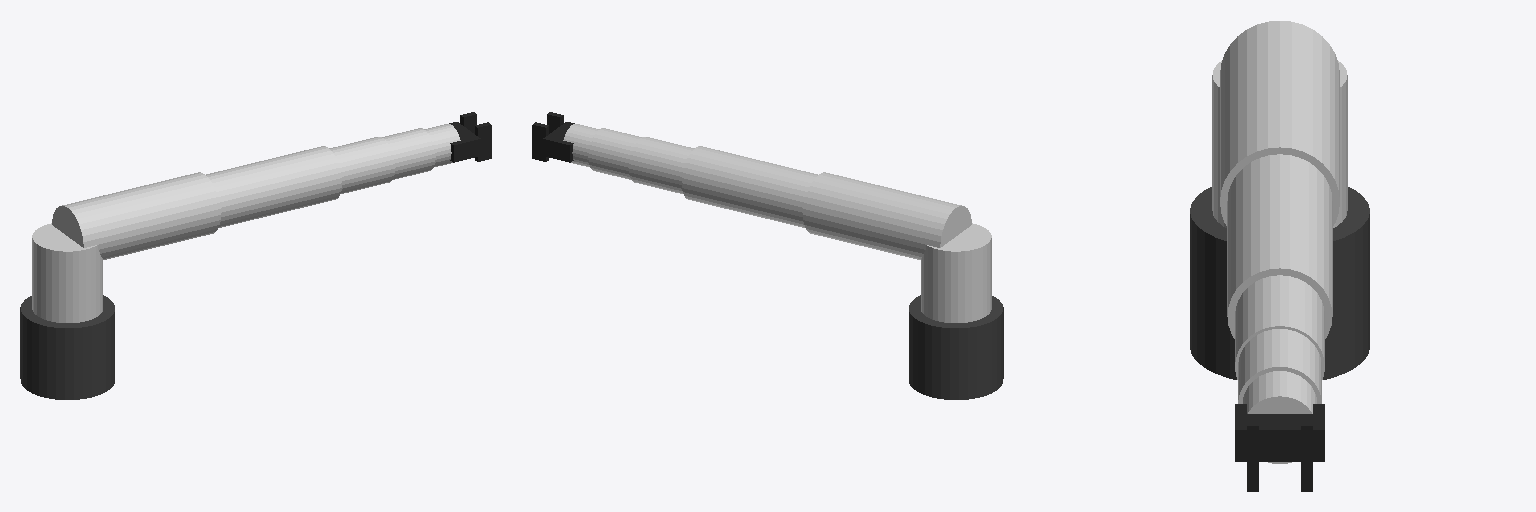
URDF robot description (tutorial_arm):
<?xml version="1.0"?>
<!--
  EasyTrainer Tutorial Arm — URDF
  ================================
  Kinematic counterpart of assets/scene.xml. Used by the Pinocchio IK solver
  so the tutorial robot can be driven in task space (move_ee_step) just like
  any real robot. Joint names / origins / axes match the MJCF exactly.

  Chain:  base_link → joint1 (yaw) → link1 → joint2 (shoulder pitch) → link2
        → joint3 (elbow pitch) → link3 → joint4 (forearm roll) → link4
        → joint5 (wrist pitch) → link5 → joint6 (tool roll) → link6
        → fixed → gripper_base → {finger_left | finger_right} (prismatic)

  EE site: gripper_base + (0.05, 0, 0)
           Equivalently in link6 frame: (0.045 + 0.05, 0, 0) = (0.095, 0, 0).
           IK config uses parent="joint6", offset=[0.095, 0, 0].
-->
<robot name="tutorial_arm">

  <!-- Base / pedestal: cylinder (r=0.06, h=0.10) sitting on the floor -->
  <link name="base_link">
    <visual>
      <origin xyz="0 0 0.05" rpy="0 0 0"/>
      <geometry><cylinder radius="0.06" length="0.10"/></geometry>
      <material name="dark_grey"><color rgba="0.3 0.3 0.3 1"/></material>
    </visual>
    <collision>
      <origin xyz="0 0 0.05" rpy="0 0 0"/>
      <geometry><cylinder radius="0.06" length="0.10"/></geometry>
    </collision>
    <inertial>
      <mass value="2.0"/>
      <origin xyz="0 0 0.05" rpy="0 0 0"/>
      <inertia ixx="0.005" iyy="0.005" izz="0.004" ixy="0" ixz="0" iyz="0"/>
    </inertial>
  </link>

  <!-- link1: yaw shaft, capsule from (0,0,0)→(0,0,0.10) along z -->
  <link name="link1">
    <visual>
      <origin xyz="0 0 0.05" rpy="0 0 0"/>
      <geometry><cylinder radius="0.045" length="0.10"/></geometry>
      <material name="arm_grey"><color rgba="0.85 0.85 0.85 1"/></material>
    </visual>
    <collision>
      <origin xyz="0 0 0.05" rpy="0 0 0"/>
      <geometry><cylinder radius="0.045" length="0.10"/></geometry>
    </collision>
    <inertial>
      <mass value="0.5"/>
      <origin xyz="0 0 0.05" rpy="0 0 0"/>
      <inertia ixx="0.002" iyy="0.002" izz="0.0005" ixy="0" ixz="0" iyz="0"/>
    </inertial>
  </link>
  <joint name="joint1" type="revolute">
    <origin xyz="0 0 0.10" rpy="0 0 0"/>
    <parent link="base_link"/>
    <child link="link1"/>
    <axis xyz="0 0 1"/>
    <limit lower="-3.14" upper="3.14" effort="100" velocity="5"/>
  </joint>

  <!-- link2: upper arm, capsule from (0,0,0)→(0.20,0,0) along x -->
  <link name="link2">
    <visual>
      <origin xyz="0.10 0 0" rpy="0 1.5708 0"/>
      <geometry><cylinder radius="0.04" length="0.20"/></geometry>
      <material name="arm_grey"/>
    </visual>
    <collision>
      <origin xyz="0.10 0 0" rpy="0 1.5708 0"/>
      <geometry><cylinder radius="0.04" length="0.20"/></geometry>
    </collision>
    <inertial>
      <mass value="0.5"/>
      <origin xyz="0.10 0 0" rpy="0 0 0"/>
      <inertia ixx="0.0005" iyy="0.005" izz="0.005" ixy="0" ixz="0" iyz="0"/>
    </inertial>
  </link>
  <joint name="joint2" type="revolute">
    <origin xyz="0 0 0.10" rpy="0 0 0"/>
    <parent link="link1"/>
    <child link="link2"/>
    <axis xyz="0 -1 0"/>
    <limit lower="-1.57" upper="1.57" effort="100" velocity="5"/>
  </joint>

  <!-- link3: forearm, capsule from (0,0,0)→(0.18,0,0) along x -->
  <link name="link3">
    <visual>
      <origin xyz="0.09 0 0" rpy="0 1.5708 0"/>
      <geometry><cylinder radius="0.035" length="0.18"/></geometry>
      <material name="arm_grey"/>
    </visual>
    <collision>
      <origin xyz="0.09 0 0" rpy="0 1.5708 0"/>
      <geometry><cylinder radius="0.035" length="0.18"/></geometry>
    </collision>
    <inertial>
      <mass value="0.5"/>
      <origin xyz="0.09 0 0" rpy="0 0 0"/>
      <inertia ixx="0.0004" iyy="0.004" izz="0.004" ixy="0" ixz="0" iyz="0"/>
    </inertial>
  </link>
  <joint name="joint3" type="revolute">
    <origin xyz="0.20 0 0" rpy="0 0 0"/>
    <parent link="link2"/>
    <child link="link3"/>
    <axis xyz="0 -1 0"/>
    <limit lower="-2.40" upper="0.50" effort="100" velocity="5"/>
  </joint>

  <!-- link4: forearm roll, capsule from (0,0,0)→(0.08,0,0) along x -->
  <link name="link4">
    <visual>
      <origin xyz="0.04 0 0" rpy="0 1.5708 0"/>
      <geometry><cylinder radius="0.030" length="0.08"/></geometry>
      <material name="arm_grey"/>
    </visual>
    <collision>
      <origin xyz="0.04 0 0" rpy="0 1.5708 0"/>
      <geometry><cylinder radius="0.030" length="0.08"/></geometry>
    </collision>
    <inertial>
      <mass value="0.5"/>
      <origin xyz="0.04 0 0" rpy="0 0 0"/>
      <inertia ixx="0.0003" iyy="0.001" izz="0.001" ixy="0" ixz="0" iyz="0"/>
    </inertial>
  </link>
  <joint name="joint4" type="revolute">
    <origin xyz="0.18 0 0" rpy="0 0 0"/>
    <parent link="link3"/>
    <child link="link4"/>
    <axis xyz="1 0 0"/>
    <limit lower="-3.14" upper="3.14" effort="100" velocity="5"/>
  </joint>

  <!-- link5: wrist pitch, capsule from (0,0,0)→(0.06,0,0) along x -->
  <link name="link5">
    <visual>
      <origin xyz="0.03 0 0" rpy="0 1.5708 0"/>
      <geometry><cylinder radius="0.028" length="0.06"/></geometry>
      <material name="arm_grey"/>
    </visual>
    <collision>
      <origin xyz="0.03 0 0" rpy="0 1.5708 0"/>
      <geometry><cylinder radius="0.028" length="0.06"/></geometry>
    </collision>
    <inertial>
      <mass value="0.5"/>
      <origin xyz="0.03 0 0" rpy="0 0 0"/>
      <inertia ixx="0.0002" iyy="0.0008" izz="0.0008" ixy="0" ixz="0" iyz="0"/>
    </inertial>
  </link>
  <joint name="joint5" type="revolute">
    <origin xyz="0.08 0 0" rpy="0 0 0"/>
    <parent link="link4"/>
    <child link="link5"/>
    <axis xyz="0 -1 0"/>
    <limit lower="-1.40" upper="1.40" effort="100" velocity="5"/>
  </joint>

  <!-- link6: tool roll, short stub cylinder around (0.020, 0, 0) along x -->
  <link name="link6">
    <visual>
      <origin xyz="0.020 0 0" rpy="0 1.5708 0"/>
      <geometry><cylinder radius="0.025" length="0.040"/></geometry>
      <material name="arm_grey"/>
    </visual>
    <collision>
      <origin xyz="0.020 0 0" rpy="0 1.5708 0"/>
      <geometry><cylinder radius="0.025" length="0.040"/></geometry>
    </collision>
    <inertial>
      <mass value="0.2"/>
      <origin xyz="0.020 0 0" rpy="0 0 0"/>
      <inertia ixx="0.0001" iyy="0.0002" izz="0.0002" ixy="0" ixz="0" iyz="0"/>
    </inertial>
  </link>
  <joint name="joint6" type="revolute">
    <origin xyz="0.06 0 0" rpy="0 0 0"/>
    <parent link="link5"/>
    <child link="link6"/>
    <axis xyz="1 0 0"/>
    <limit lower="-3.14" upper="3.14" effort="100" velocity="5"/>
  </joint>

  <!-- gripper_base: fixed shell, ee_site sits at (0.05, 0, 0) inside this frame -->
  <link name="gripper_base">
    <visual>
      <origin xyz="0 0 0" rpy="0 0 0"/>
      <geometry><box size="0.040 0.060 0.024"/></geometry>
      <material name="finger_dark"><color rgba="0.2 0.2 0.2 1"/></material>
    </visual>
    <collision>
      <origin xyz="0 0 0" rpy="0 0 0"/>
      <geometry><box size="0.040 0.060 0.024"/></geometry>
    </collision>
    <inertial>
      <mass value="0.1"/>
      <origin xyz="0 0 0" rpy="0 0 0"/>
      <inertia ixx="0.00005" iyy="0.00003" izz="0.00006" ixy="0" ixz="0" iyz="0"/>
    </inertial>
  </link>
  <joint name="joint_gripper_base" type="fixed">
    <origin xyz="0.045 0 0" rpy="0 0 0"/>
    <parent link="link6"/>
    <child link="gripper_base"/>
  </joint>

  <!-- finger_left: prismatic +y -->
  <link name="finger_left">
    <visual>
      <origin xyz="0 0 0" rpy="0 0 0"/>
      <geometry><box size="0.020 0.008 0.048"/></geometry>
      <material name="finger_dark"/>
    </visual>
    <collision>
      <origin xyz="0 0 0" rpy="0 0 0"/>
      <geometry><box size="0.020 0.008 0.048"/></geometry>
    </collision>
    <inertial>
      <mass value="0.03"/>
      <origin xyz="0 0 0" rpy="0 0 0"/>
      <inertia ixx="0.00001" iyy="0.00001" izz="0.000005" ixy="0" ixz="0" iyz="0"/>
    </inertial>
  </link>
  <joint name="gripper" type="prismatic">
    <origin xyz="0.030 0.018 0" rpy="0 0 0"/>
    <parent link="gripper_base"/>
    <child link="finger_left"/>
    <axis xyz="0 1 0"/>
    <limit lower="0" upper="0.04" effort="50" velocity="0.5"/>
  </joint>

  <!-- finger_right: prismatic -y (mirror) -->
  <link name="finger_right">
    <visual>
      <origin xyz="0 0 0" rpy="0 0 0"/>
      <geometry><box size="0.020 0.008 0.048"/></geometry>
      <material name="finger_dark"/>
    </visual>
    <collision>
      <origin xyz="0 0 0" rpy="0 0 0"/>
      <geometry><box size="0.020 0.008 0.048"/></geometry>
    </collision>
    <inertial>
      <mass value="0.03"/>
      <origin xyz="0 0 0" rpy="0 0 0"/>
      <inertia ixx="0.00001" iyy="0.00001" izz="0.000005" ixy="0" ixz="0" iyz="0"/>
    </inertial>
  </link>
  <joint name="gripper_mirror" type="prismatic">
    <origin xyz="0.030 -0.018 0" rpy="0 0 0"/>
    <parent link="gripper_base"/>
    <child link="finger_right"/>
    <axis xyz="0 -1 0"/>
    <limit lower="0" upper="0.04" effort="50" velocity="0.5"/>
  </joint>

</robot>

--- What the picture shows (computed from the rendered views, not written in the file) ---
3 views of the same robot in one strip: view 1: azimuth 30°, elevation 25°; view 2: azimuth 150°, elevation 25°; view 3: azimuth 270°, elevation 25° (orthographic).
Robot: tutorial_arm — 10 links, 9 joints (6 revolute, 2 prismatic, 1 fixed); root link base_link; default pose: every joint at zero.
Links seen in each view (by area): view 1: link2, base_link, link3, link1, link4, link5, link6, gripper_base; view 2: link2, base_link, link3, link1, link4, link5, link6, gripper_base; view 3: link2, link3, base_link, link4, link5, gripper_base, link6, link1, finger_left, finger_right.
Boxes of the visible links, left/top/right/bottom form: link2: left=52, top=172, right=220, bottom=259; base_link: left=20, top=295, right=114, bottom=399; link3: left=206, top=146, right=341, bottom=227; link1: left=32, top=223, right=102, bottom=322; link4: left=329, top=137, right=394, bottom=193; link5: left=382, top=128, right=435, bottom=179; link6: left=424, top=124, right=460, bottom=166; gripper_base: left=449, top=122, right=480, bottom=162; link2: left=803, top=172, right=971, bottom=259; base_link: left=909, top=295, right=1003, bottom=399; link3: left=682, top=146, right=817, bottom=227; link1: left=921, top=223, right=991, bottom=322; link4: left=629, top=137, right=694, bottom=193; link5: left=588, top=128, right=641, bottom=179; link6: left=563, top=124, right=599, bottom=166; gripper_base: left=543, top=122, right=574, bottom=162; link2: left=1220, top=21, right=1339, bottom=225; link3: left=1227, top=154, right=1332, bottom=338; base_link: left=1190, top=187, right=1369, bottom=379; link4: left=1235, top=275, right=1324, bottom=379; link5: left=1238, top=329, right=1321, bottom=403; gripper_base: left=1235, top=404, right=1324, bottom=461; link6: left=1243, top=371, right=1316, bottom=463; link1: left=1212, top=61, right=1347, bottom=227; finger_left: left=1301, top=414, right=1312, bottom=491; finger_right: left=1247, top=414, right=1258, bottom=491.
Bounding box of the posed robot: 0.665 × 0.12 × 0.24 m (x, y, z).
Geometry: primitives only (box / cylinder / sphere), no mesh files.
